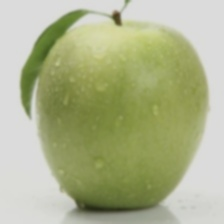apple: (33, 0, 168, 198)
